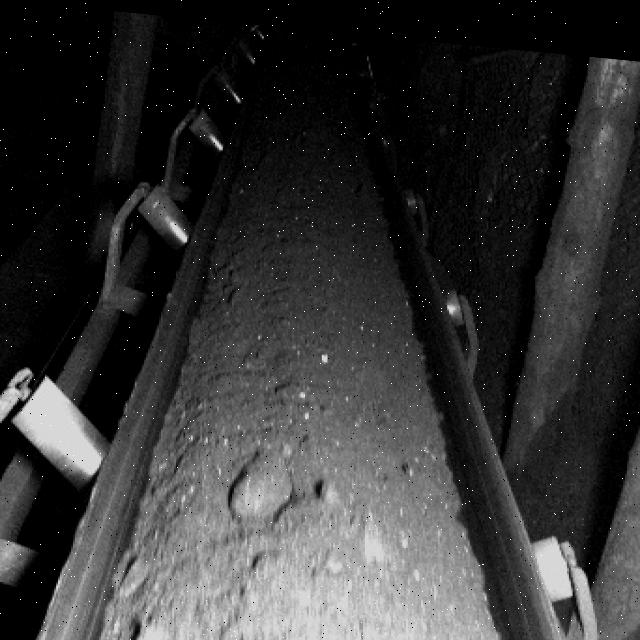large_sized_coal: (230, 440, 286, 518)
